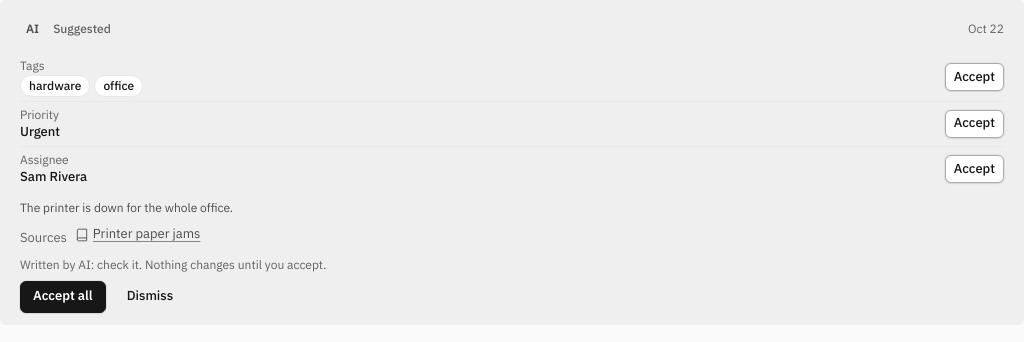
accepting one part sends only it and leaves the rest open
Step 1. Click the button with aria-label "Accept priority Urgent" → (974, 124), box x1=945 y1=110 x2=1004 y2=138
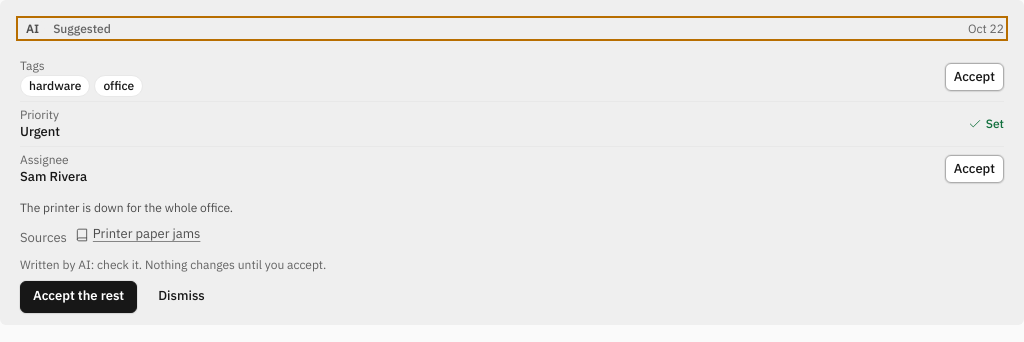
Expected: the button with aria-label "Accept tags hardware, office" is shown, x1=945 y1=63 x2=1004 y2=91
Expected: the text "Set" is shown, x1=968 y1=115 x2=1004 y2=133
Expected: the button "Accept the rest" is shown, x1=20 y1=281 x2=137 y2=313
